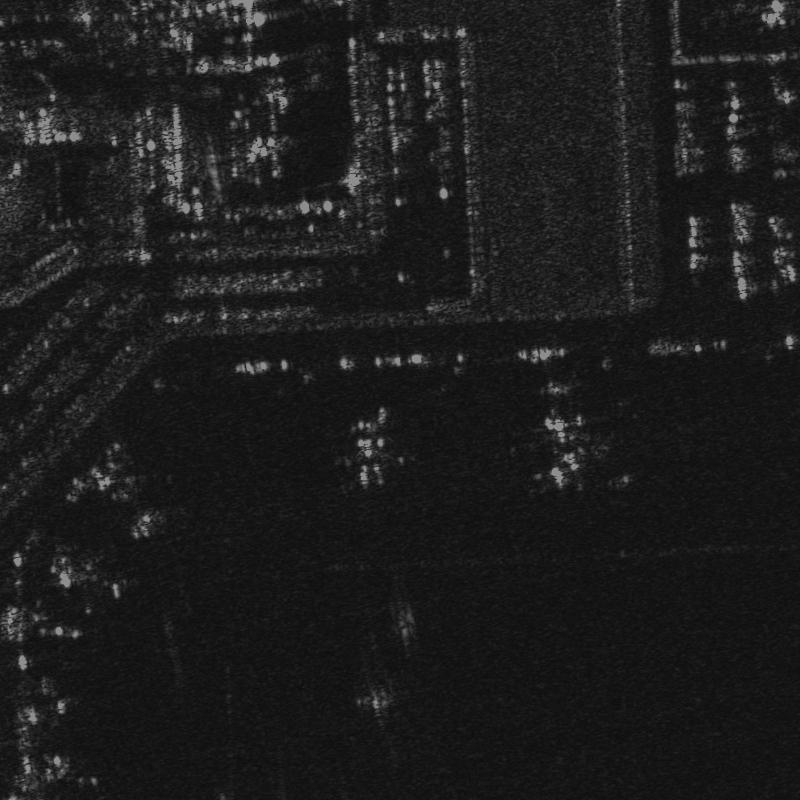A220: (93, 463, 184, 545), (43, 544, 140, 620)
Boeing737: (329, 408, 420, 492)
other: (520, 407, 615, 497)
